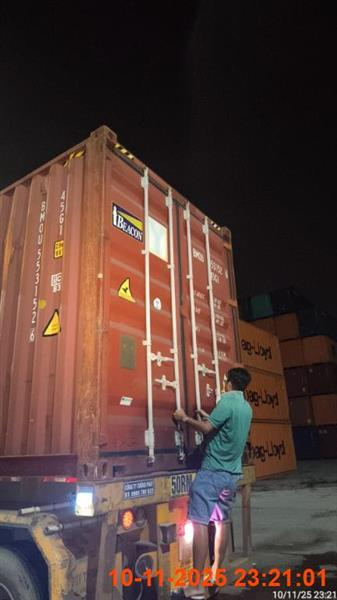broken: (1, 126, 291, 599), (171, 366, 253, 590), (183, 416, 230, 469)
